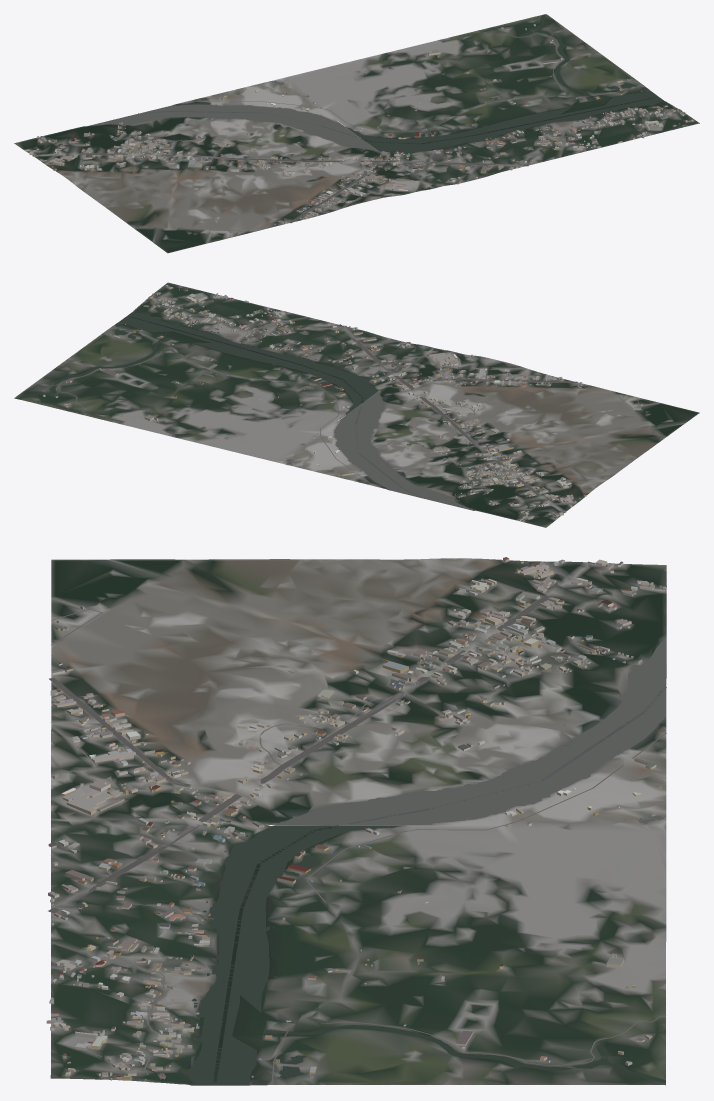
3 views of the same model, one above another, from view 1: azimuth 30°, elevation 25°; view 2: azimuth 150°, elevation 25°; view 3: azimuth 270°, elevation 25° (orthographic). The views are drawn at different scales.
Visible parts, largest first — view 1: ground, water, buildings, roads; view 2: ground, water, buildings, roads; view 3: ground, water, buildings, roads.
Boxes of the visible parts, x1,y1,x2,y2 form: ground: (14,14,699,253); water: (89,14,663,153); buildings: (25,24,693,236); roads: (32,31,687,243); ground: (14,282,699,527); water: (16,312,470,509); buildings: (43,285,642,521); roads: (56,292,660,513); ground: (50,558,666,1085); water: (183,638,666,1085); buildings: (46,557,666,1080); roads: (48,561,666,1084).
Bounding box in the file's own units: 2807 × 35.29 × 1413.
